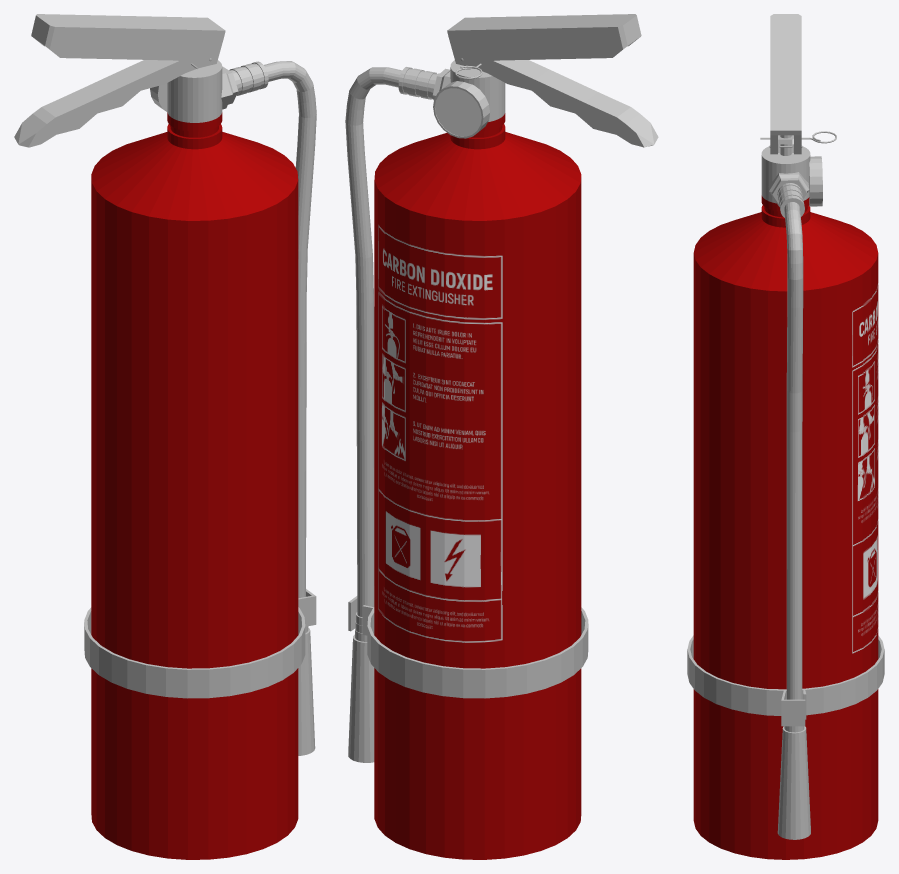
Rendered from Fire_Extinguisher.fbx.
The picture shows the model from 3 angles, left to right: view 1: azimuth 30°, elevation 25°; view 2: azimuth 150°, elevation 25°; view 3: azimuth 270°, elevation 25°; orthographic projection. The views are drawn at different scales.
Parts seen in each view (by area): view 1: fire extinguisher; view 2: fire extinguisher; view 3: fire extinguisher.
Part boxes in pixels (x1,y1,x2,y2): fire extinguisher: [14, 14, 316, 859]; fire extinguisher: [345, 14, 658, 859]; fire extinguisher: [687, 14, 884, 859].
Bounding box in the file's own units: 33.7 × 88.64 × 21.36.
